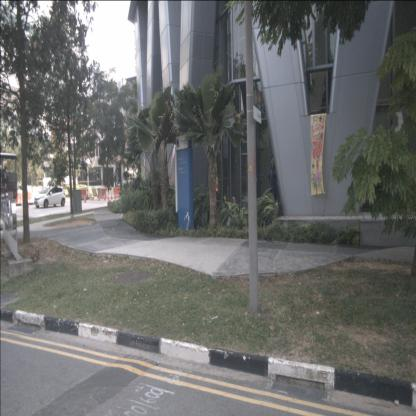human-pedestrian-adult: (267, 155, 279, 222)
movable_object-barrier: (97, 188, 107, 199), (106, 187, 115, 198), (20, 192, 32, 200), (80, 189, 90, 198), (10, 193, 18, 204), (114, 188, 121, 198)
movable_object-trafficcone: (110, 192, 113, 200), (107, 192, 110, 200), (104, 192, 106, 201), (84, 194, 86, 203), (114, 192, 116, 200)
vehicle-car: (34, 185, 66, 209)
